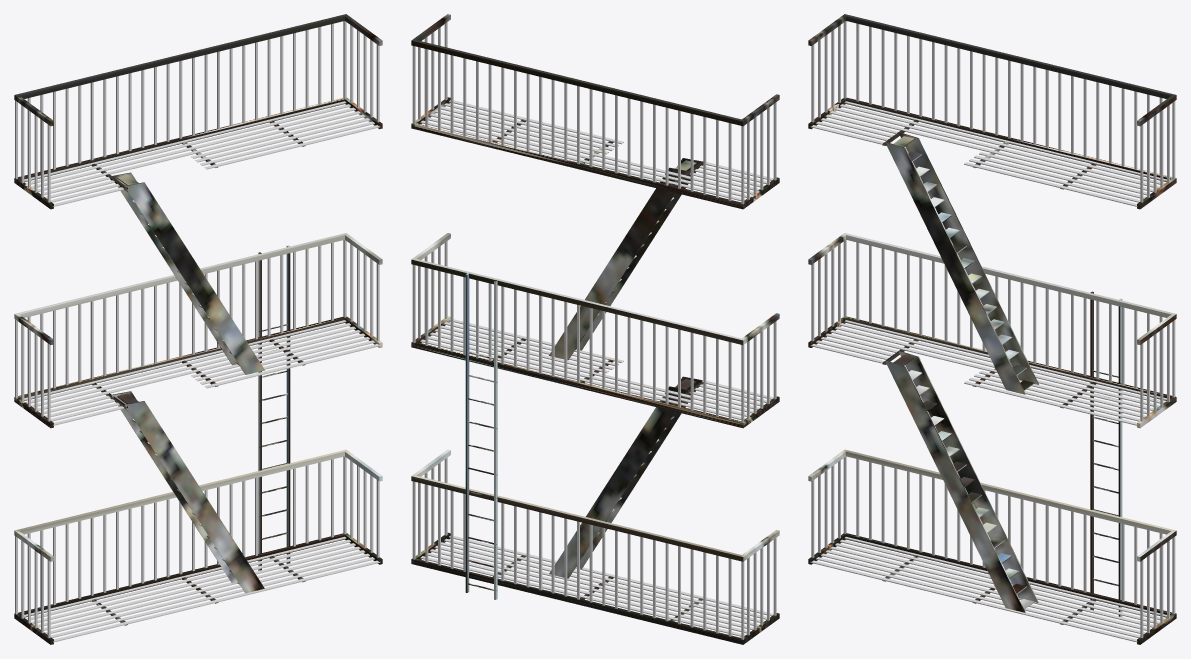
The model's file is FireExitBuilding4.fbx.
3 renders of one model, left to right at view 1: azimuth 30°, elevation 25°; view 2: azimuth 150°, elevation 25°; view 3: azimuth 330°, elevation 25°, orthographic.
Parts seen in each view (by area): view 1: Cube.125; view 2: Cube.125; view 3: Cube.125.
Boxes of the visible parts, <box> form: Cube.125: <box>14,14,382,644</box>; Cube.125: <box>411,14,779,644</box>; Cube.125: <box>808,14,1176,644</box>.
Size of the model in its own units: 632 by 977 by 126.
